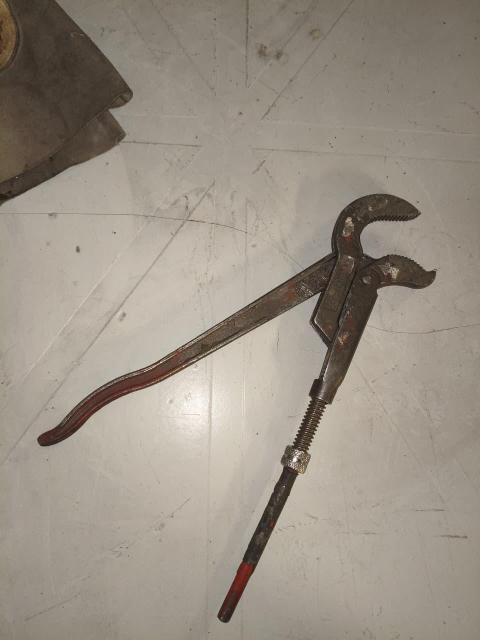Metal: (37, 190, 437, 625)
